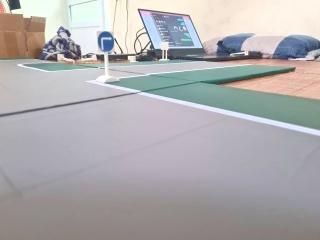right: (94, 26, 118, 57)
